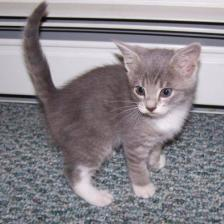cat: (113, 34, 207, 125)
